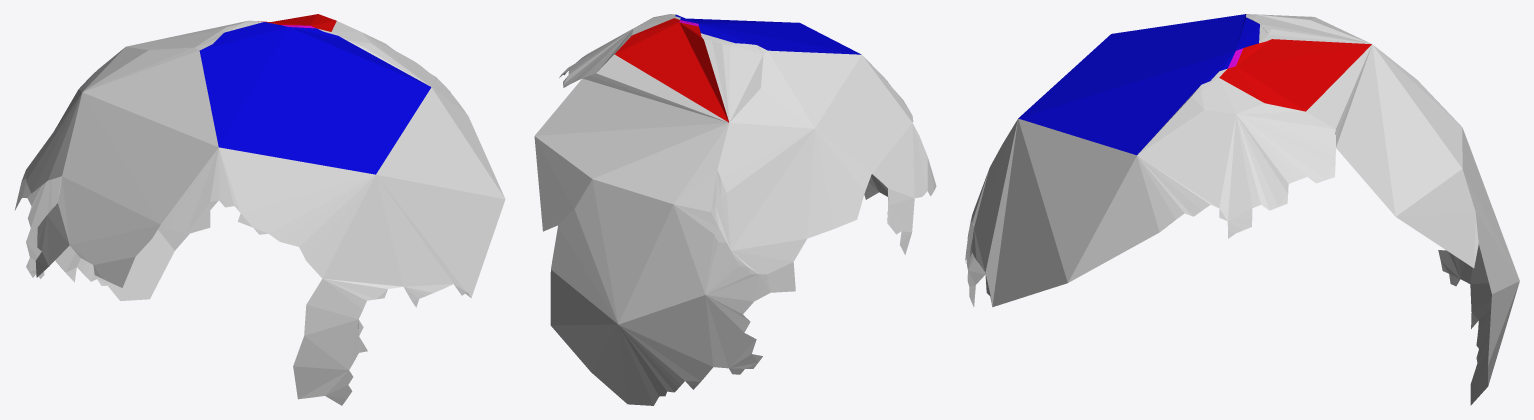
The picture shows the model from 3 angles, left to right: view 1: azimuth 30°, elevation 25°; view 2: azimuth 150°, elevation 25°; view 3: azimuth 270°, elevation 25°; orthographic projection. The views are drawn at different scales.
Size of the model in its own units: 1.82 by 1.5 by 2.04.
